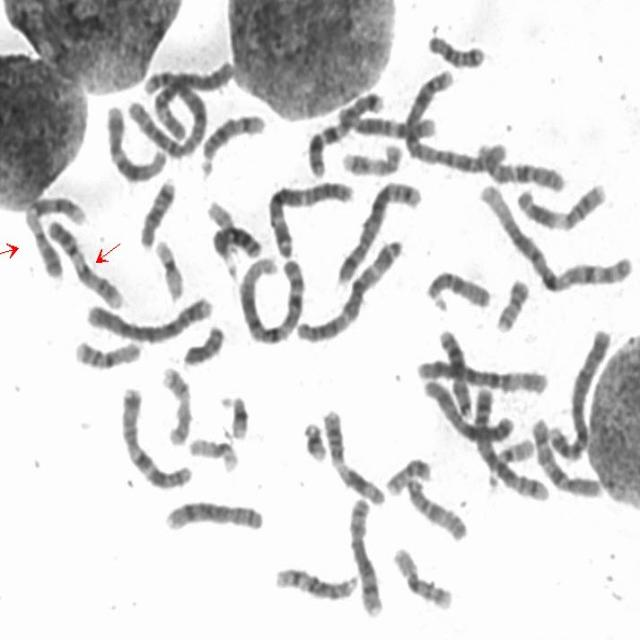A1: (475, 176, 635, 293), (233, 249, 310, 347)
A2: (402, 64, 511, 174), (128, 62, 208, 160)
A3: (292, 230, 408, 344), (265, 173, 357, 260)
B4: (545, 321, 613, 463), (82, 289, 215, 345)
B5: (331, 175, 424, 286), (470, 383, 551, 503)
C10: (527, 413, 604, 500), (470, 136, 568, 195)
C11: (318, 403, 389, 509), (514, 176, 610, 233)
C12: (102, 98, 170, 184), (335, 100, 441, 140)
C6: (148, 54, 236, 139), (412, 352, 552, 396)
C7: (115, 381, 194, 492), (303, 85, 387, 179)
C8: (344, 492, 387, 620), (162, 494, 266, 534)
C9: (43, 214, 127, 310), (21, 191, 89, 277)
D13: (434, 323, 476, 419), (208, 220, 263, 260)
D14: (194, 108, 266, 176), (270, 560, 360, 602)
D15: (400, 471, 470, 543), (422, 264, 494, 312)
E16: (388, 541, 455, 612), (69, 333, 144, 372)
E17: (156, 360, 194, 448), (338, 137, 405, 178)
E18: (136, 172, 178, 250), (423, 27, 486, 70)
F19: (150, 232, 187, 302), (185, 431, 241, 474)
F20: (492, 272, 532, 334), (382, 451, 433, 497)
G21: (221, 388, 251, 441), (299, 415, 329, 463)
G22: (484, 433, 536, 489), (202, 194, 242, 262)
X: (420, 375, 515, 444)
Y: (180, 319, 227, 367)
